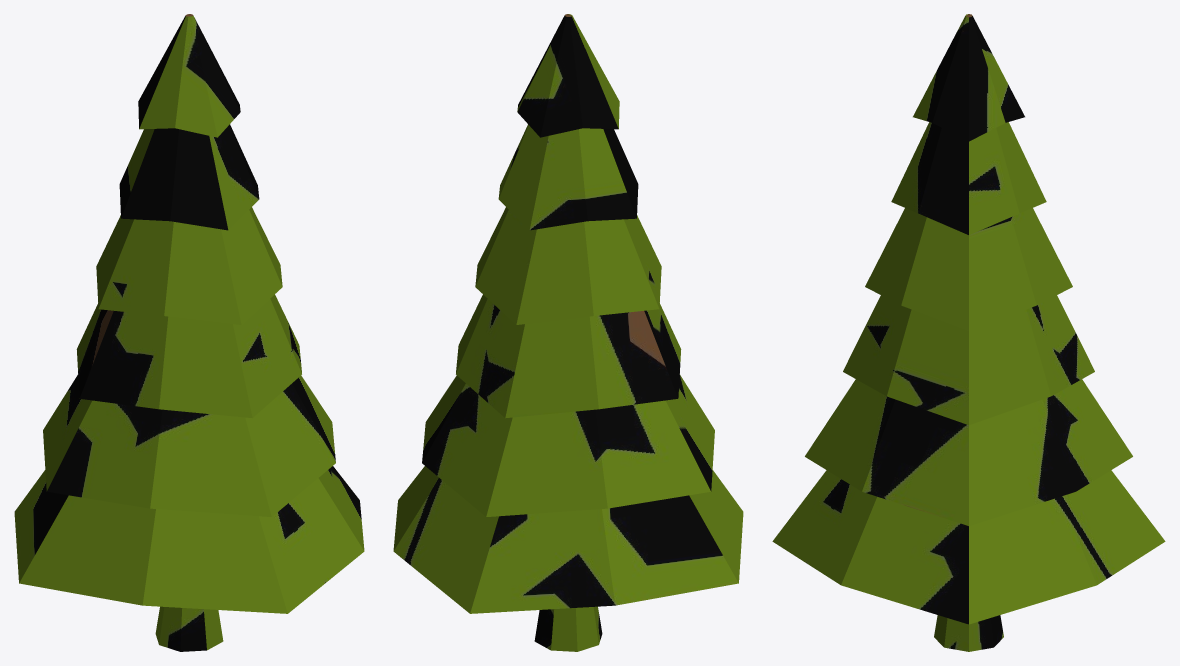
Rendered from pine-tree.obj.
3 views of the same model, side by side, from view 1: azimuth 30°, elevation 25°; view 2: azimuth 150°, elevation 25°; view 3: azimuth 270°, elevation 25° (orthographic).
Visible parts, largest first — view 1: Tree1_Cylinder; view 2: Tree1_Cylinder; view 3: Tree1_Cylinder.
Boxes of the visible parts, <box> form: Tree1_Cylinder: <box>14,14,364,651</box>; Tree1_Cylinder: <box>393,14,743,651</box>; Tree1_Cylinder: <box>772,14,1165,651</box>.
Size of the model in its own units: 4.58 by 7.99 by 4.58.
